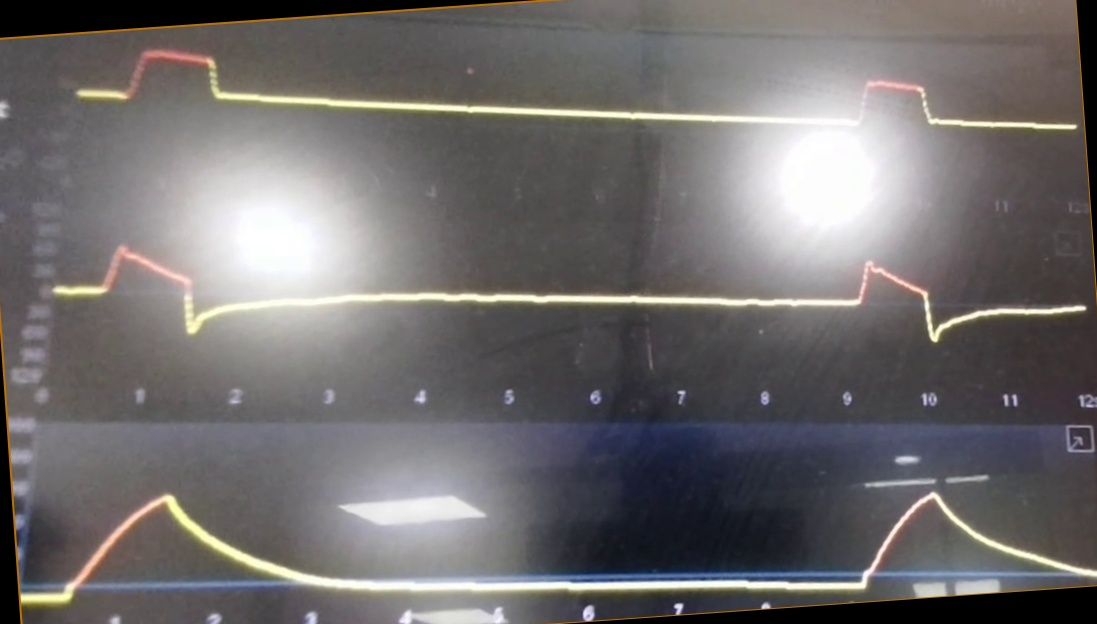Normal Flow: (53, 188, 1088, 367)
Normal Volume: (26, 439, 1097, 611)
